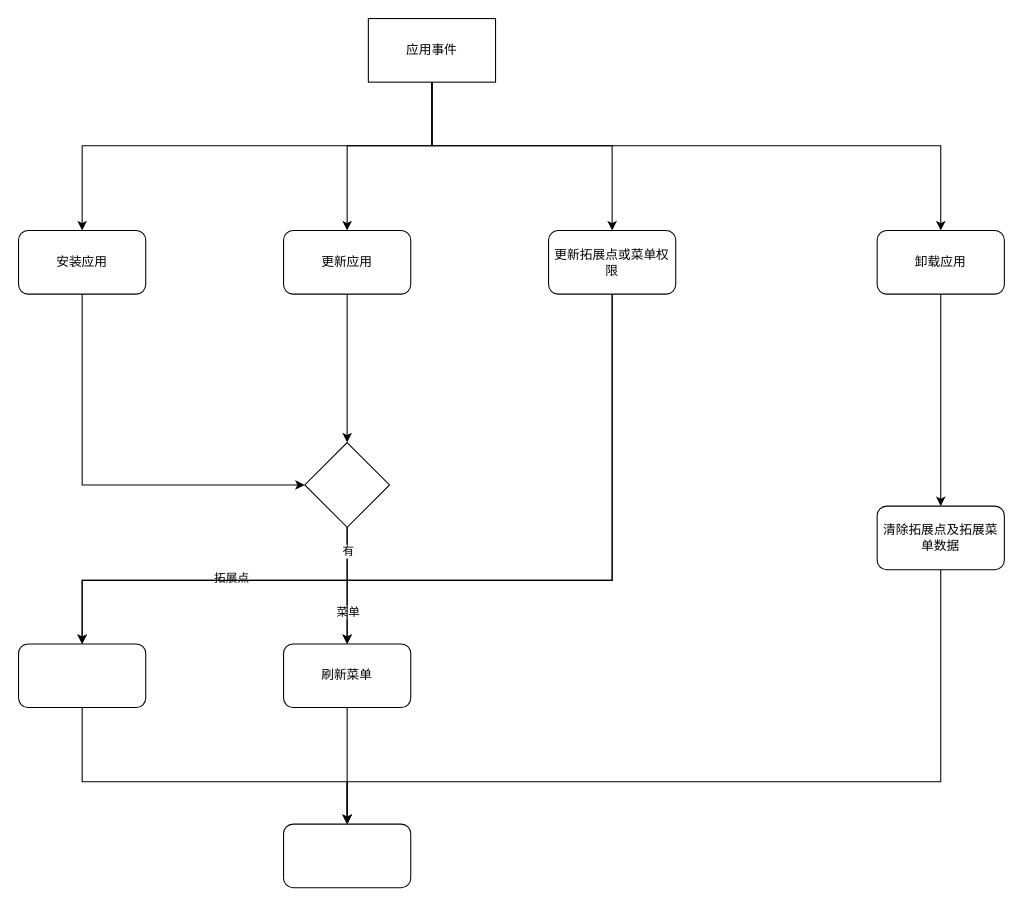
The diagram is 1023 pixels wide and 906 high, and some of its shapes have lost their labels. The shapes that lost their labels are listed below. From the top down, each one's centre as x and y in pixels, then its label:
At [347,484]: "更新的应用中是否有扩展点或者拓展菜单".
At [81,675]: "刷新拓展点".
At [346,855]: "推送给前端重新获取上下文".
